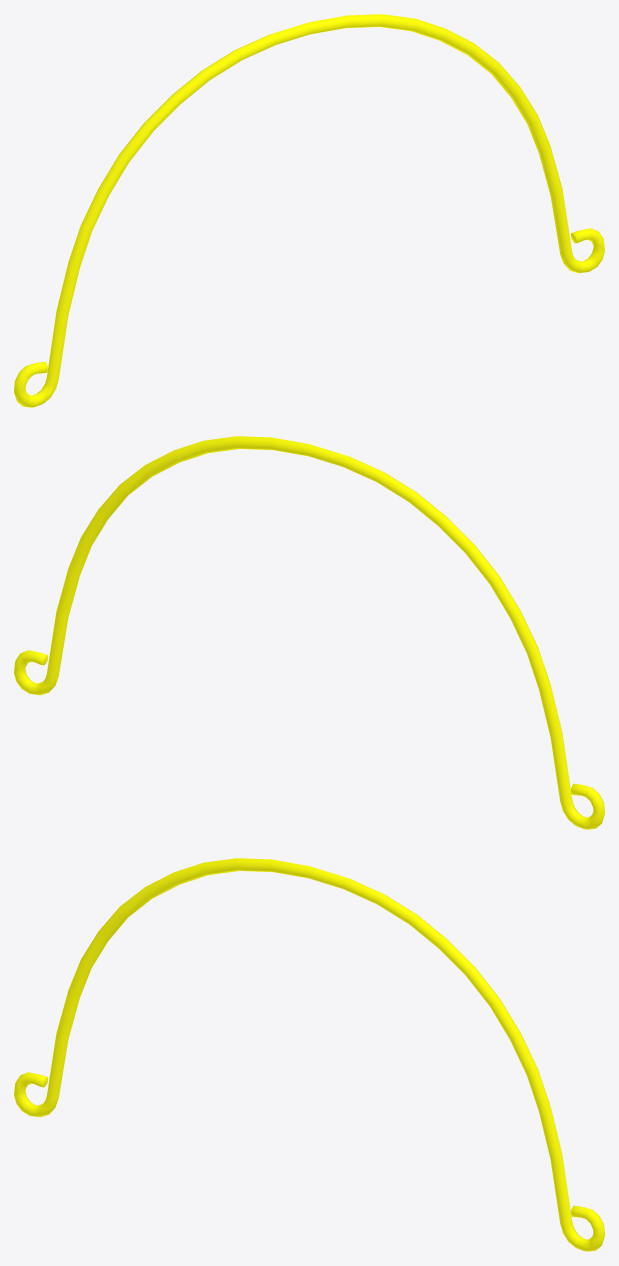
The model's file is SM_Bucket_01_Part_01.glb.
The picture shows the model from 3 angles, top to bottom: view 1: azimuth 30°, elevation 25°; view 2: azimuth 150°, elevation 25°; view 3: azimuth 330°, elevation 25°; orthographic projection.
Visible parts, largest first — view 1: SM_Bucket_01_Part_01_LOD0; view 2: SM_Bucket_01_Part_01_LOD0; view 3: SM_Bucket_01_Part_01_LOD0.
Part boxes in pixels (x1,y1,x2,y2): SM_Bucket_01_Part_01_LOD0: (14, 14, 604, 407); SM_Bucket_01_Part_01_LOD0: (14, 436, 604, 829); SM_Bucket_01_Part_01_LOD0: (14, 858, 604, 1251).
Size of what is drawn, in the model's own units: 0.4721 by 0.2428 by 0.00827.
1 material, 1 textured.
